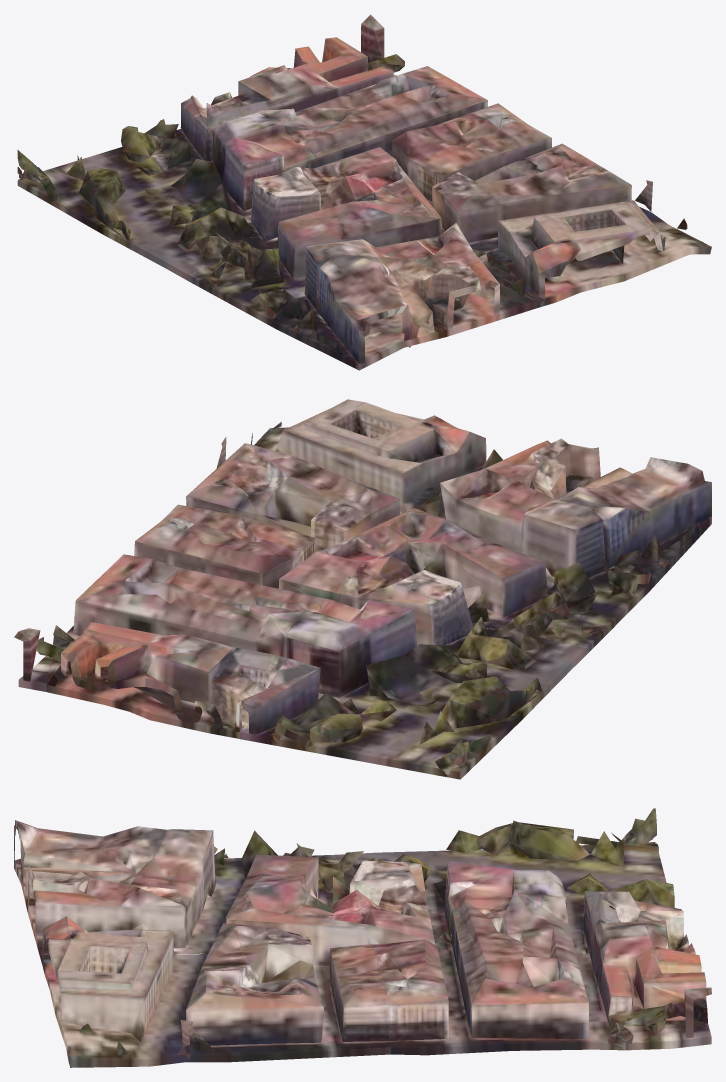
The picture shows the model from 3 angles, top to bottom: view 1: azimuth 30°, elevation 25°; view 2: azimuth 150°, elevation 25°; view 3: azimuth 270°, elevation 25°; orthographic projection. The views are drawn at different scales.
Visible parts, largest first — view 1: Mesh_0; view 2: Mesh_0; view 3: Mesh_0.
Boxes of the visible parts, box(x1,y1,x2,y2) form: Mesh_0: box(17, 14, 711, 370); Mesh_0: box(14, 399, 711, 779); Mesh_0: box(14, 808, 711, 1067).
Size of the model in its own units: 269 by 39.86 by 330.
Materials: 2 (2 with a texture image).
